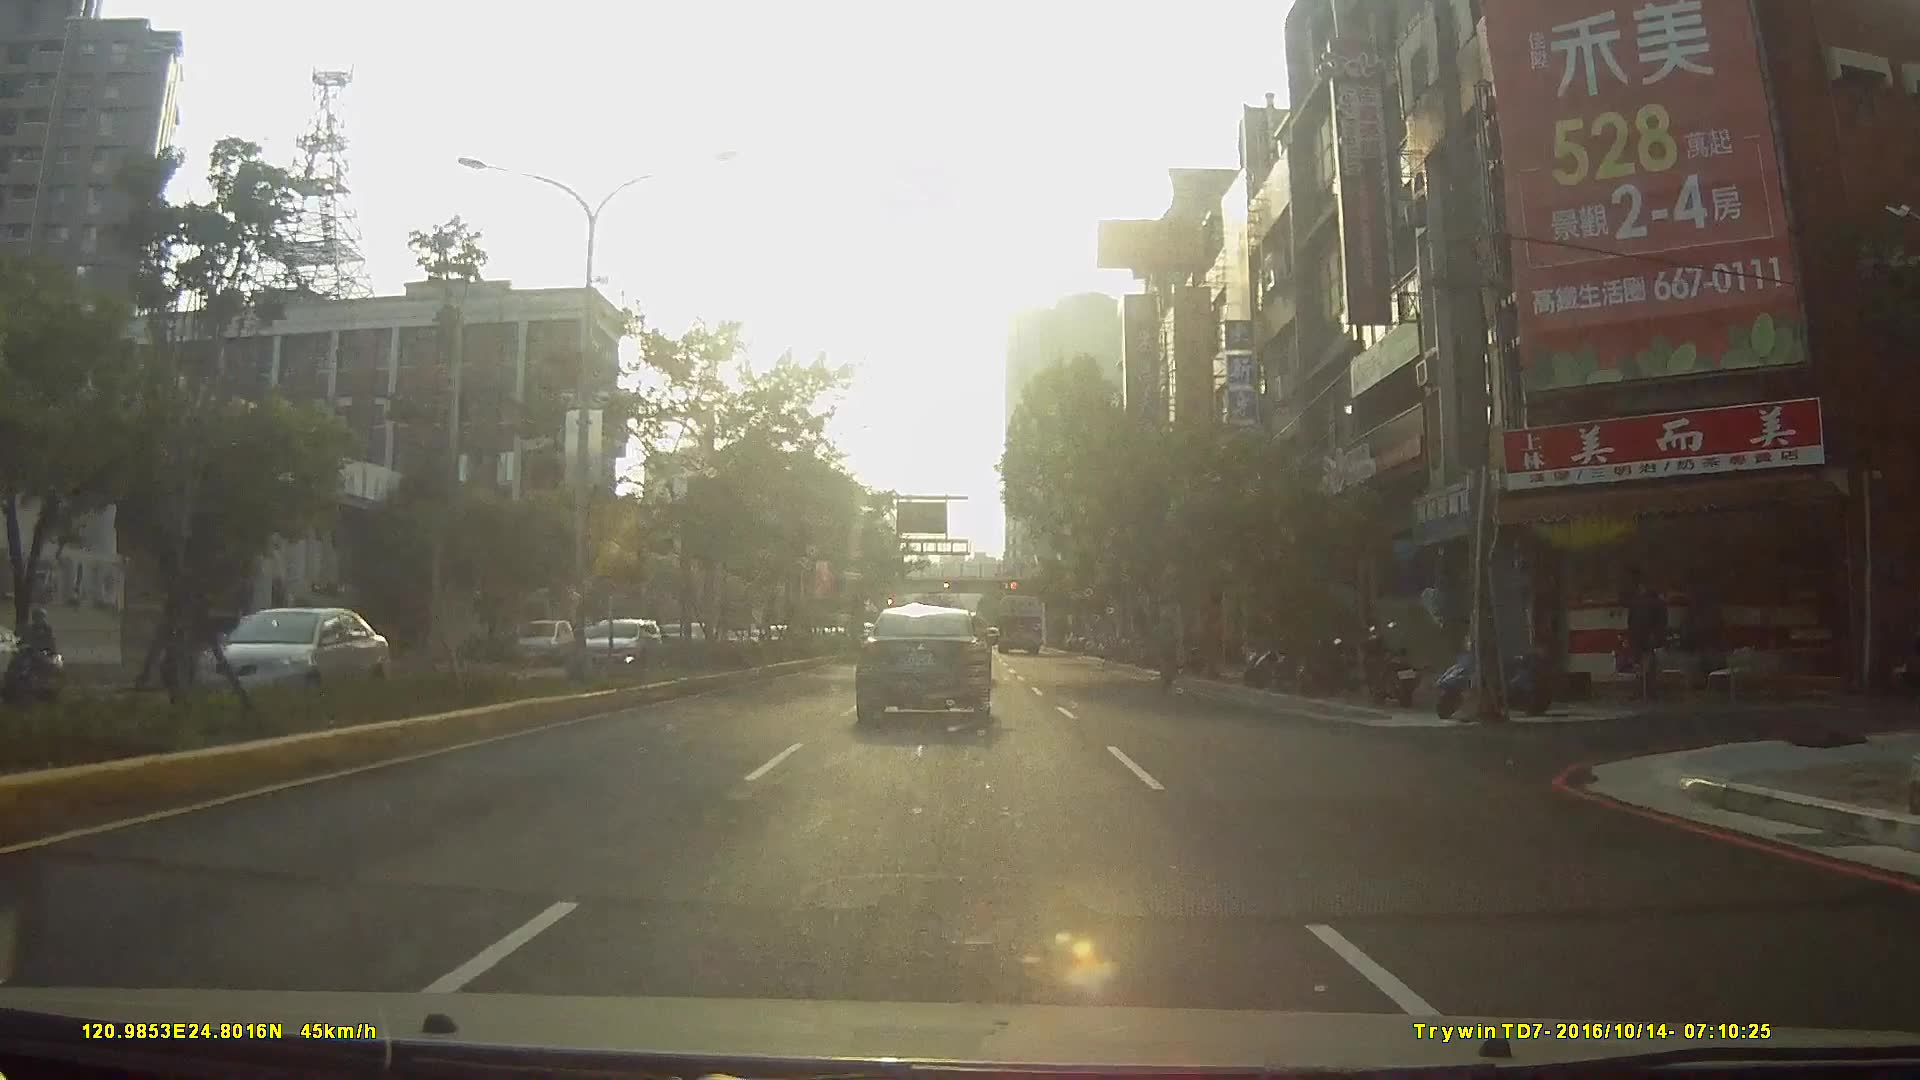pedestrian: (1152, 610, 1192, 700)
rider: (15, 611, 62, 709)
vehicle: (171, 601, 408, 734), (852, 603, 994, 727), (570, 615, 669, 681), (993, 593, 1043, 656), (510, 619, 572, 665)
